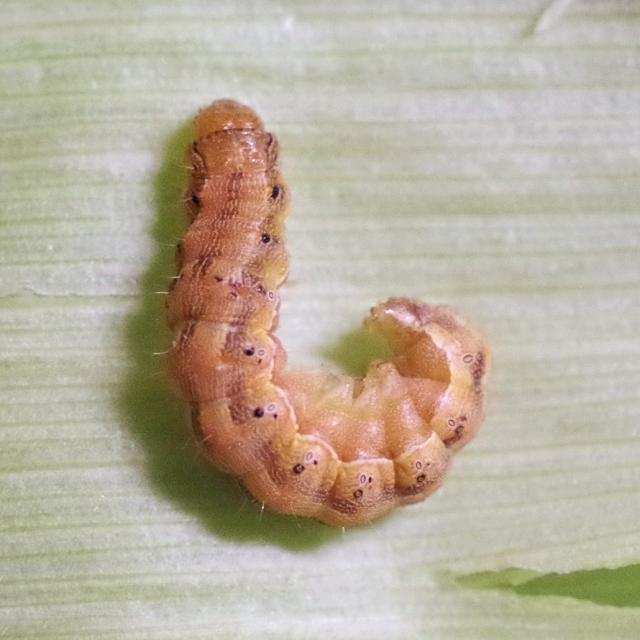Corn-earworm: (171, 60, 491, 547)
